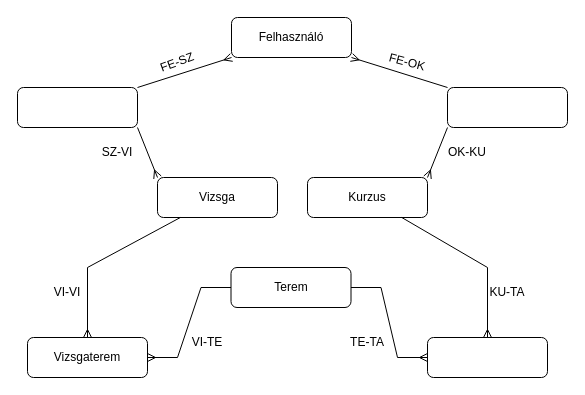
Image size: 585x395. Some labels were removed from this diagram. The shapes that lost their labels are listed below. From the top down, each one's centre as x and y in pixels, then its label:
point (77, 107): Számonkérés
point (507, 107): Oktatás
point (487, 357): Tanterem
